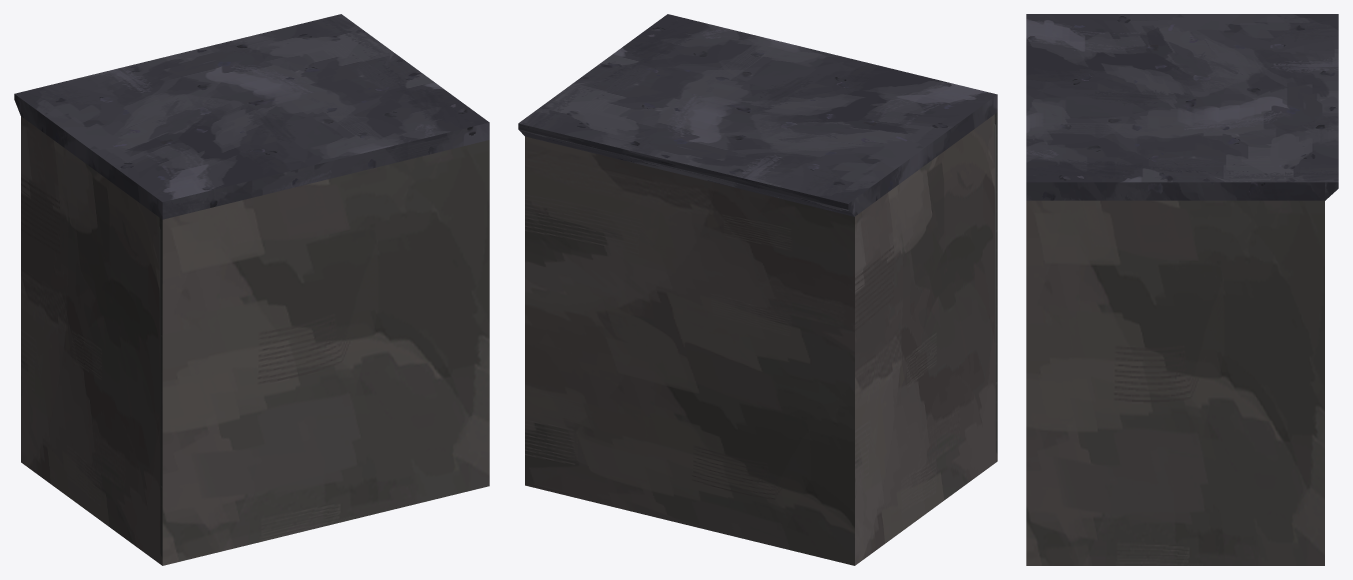
Rendered from M-Cabin1.fbx.
3 renders of one model, left to right at view 1: azimuth 30°, elevation 25°; view 2: azimuth 150°, elevation 25°; view 3: azimuth 270°, elevation 25°, orthographic. The views are drawn at different scales.
Parts seen in each view (by area): view 1: Cube; view 2: Cube; view 3: Cube.
Boxes of the visible parts, bbox=[...] form: Cube: bbox=[14, 14, 489, 565]; Cube: bbox=[518, 14, 997, 565]; Cube: bbox=[1026, 14, 1338, 565].
Size of the model in its own units: 80 by 62.79 by 85.
1 material, 1 textured.
